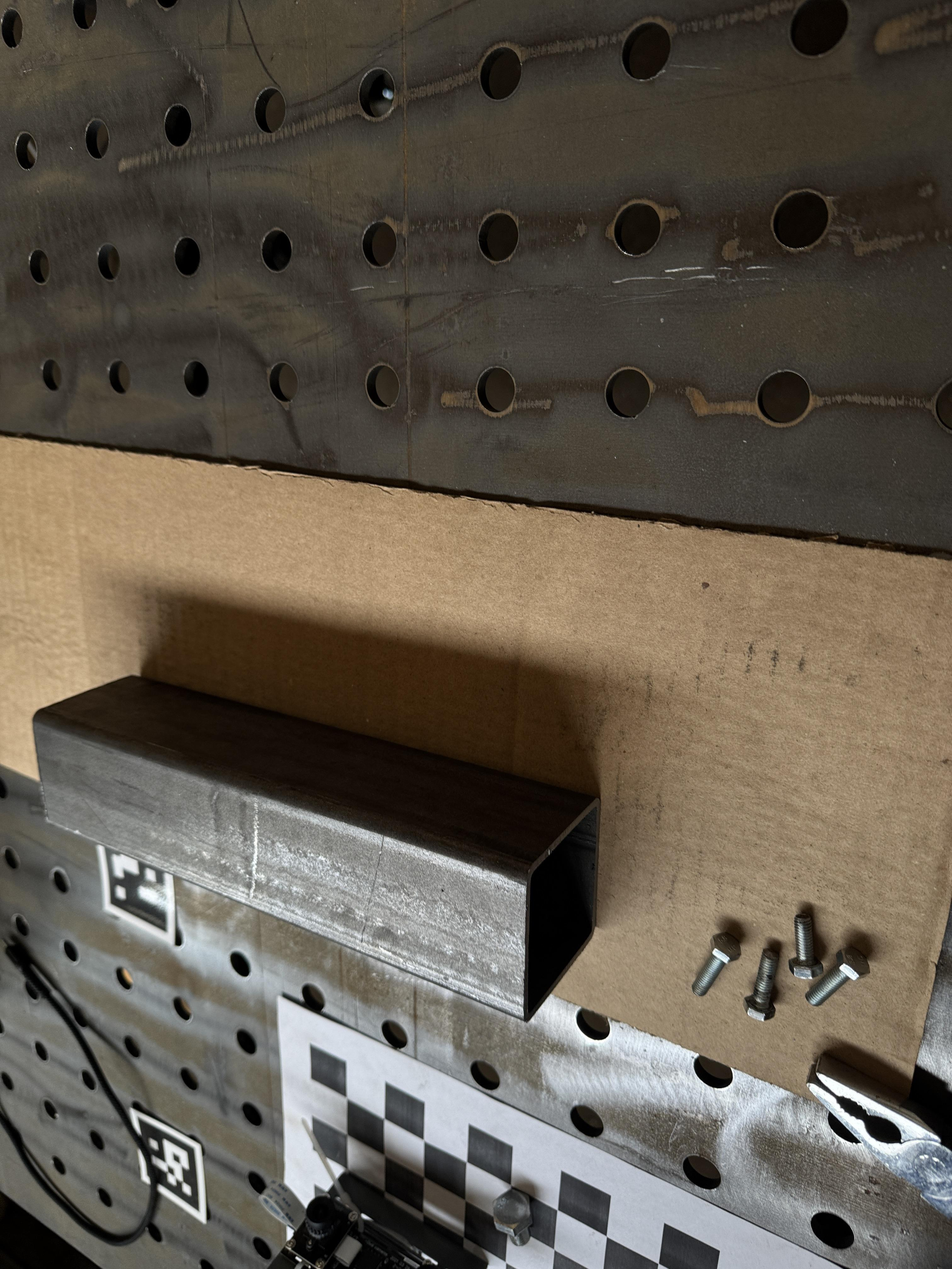detail: (32, 675, 602, 1025)
